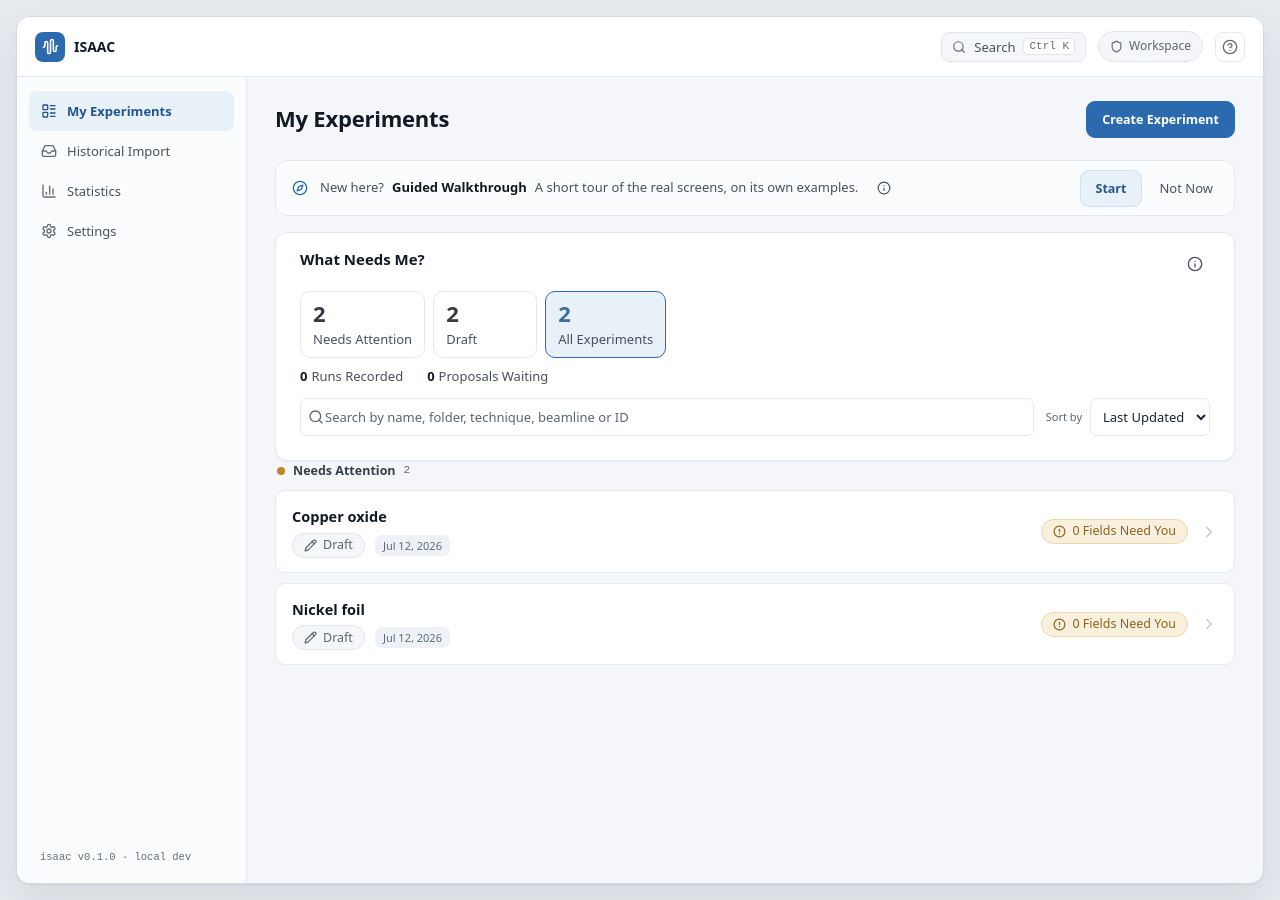
Test: search, facets and sort › narrows the list by search, and states a count of what is on screen
Expected: the text "Copper oxide" is shown, [292,506,387,526]
In the search field named "Search Experiments": (667, 417) [300,398,1034,436], type "nickel"
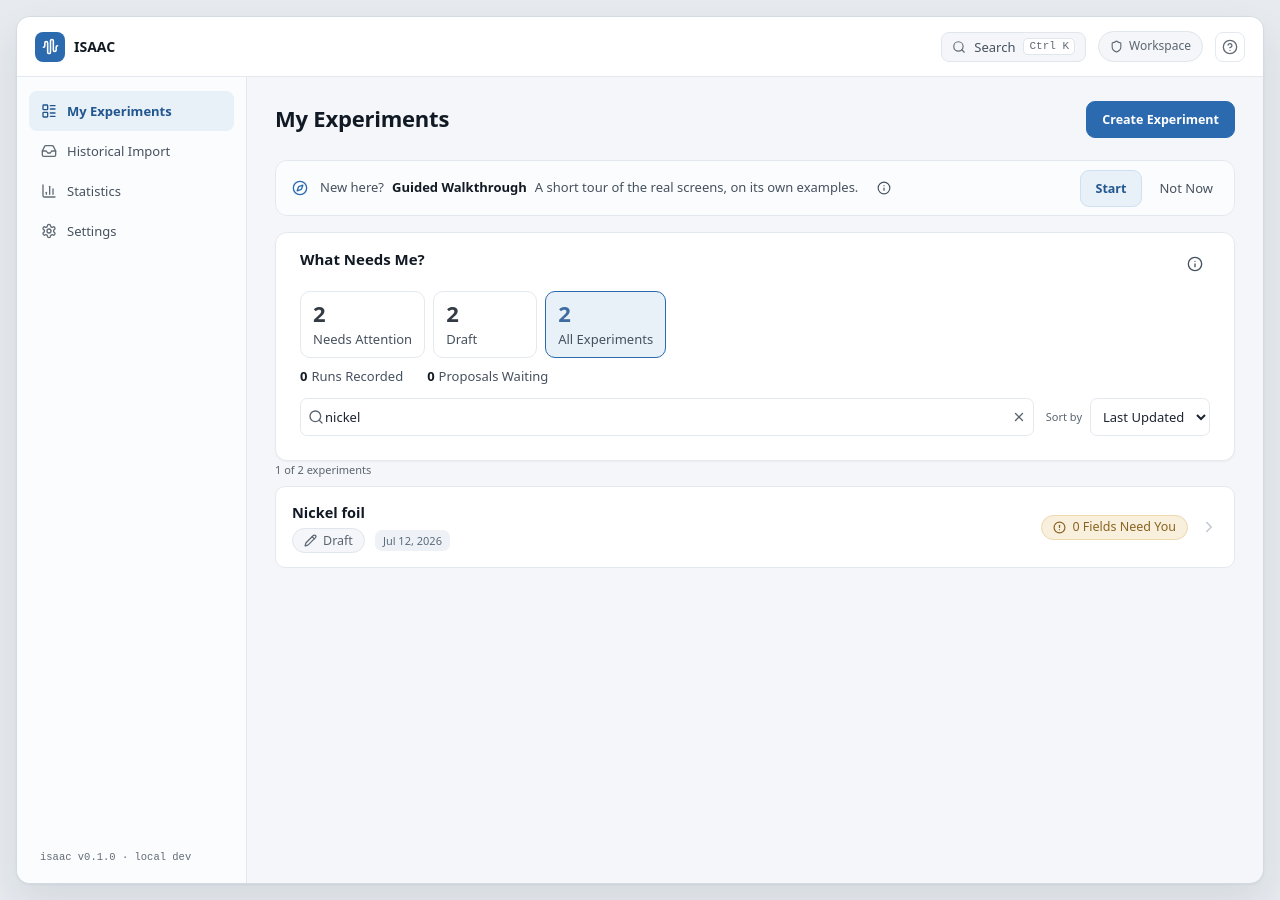
Expected: the text "Nickel foil" is shown, [292,502,365,522]
Expected: the link "Copper oxide" is gone
Expected: the text "1 of 2 experiments" is shown, [275,462,371,477]
